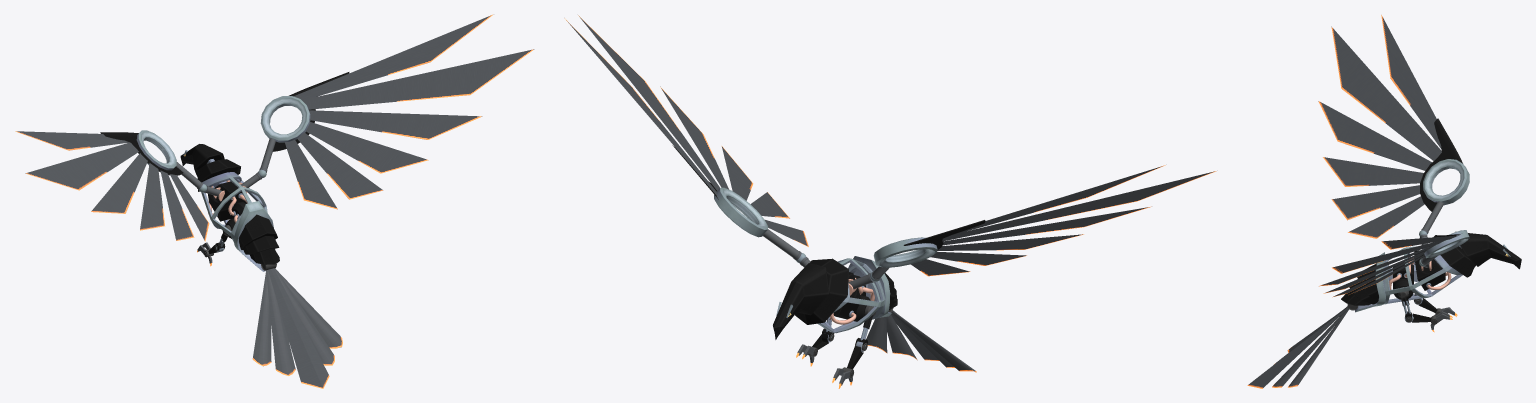
Rendered from eagle.glb.
3 renders of one model, left to right at view 1: azimuth 30°, elevation 25°; view 2: azimuth 150°, elevation 25°; view 3: azimuth 270°, elevation 25°, orthographic. The views are drawn at different scales.
Visible parts, largest first — view 1: Object_4, Object_5, Object_6; view 2: Object_4, Object_5, Object_6; view 3: Object_4, Object_5, Object_6.
Part boxes in pixels (x1,y1,x2,y2): Object_4: [15, 14, 534, 375]; Object_5: [160, 132, 383, 388]; Object_6: [136, 96, 310, 270]; Object_4: [564, 15, 1216, 385]; Object_5: [750, 192, 1026, 388]; Object_6: [714, 187, 937, 324]; Object_4: [1272, 15, 1462, 387]; Object_5: [1247, 185, 1521, 388]; Object_6: [1347, 159, 1469, 310].
Size of the model in its own units: 38.72 by 19.3 by 18.62.
Materials: 1 (1 with a texture image).
